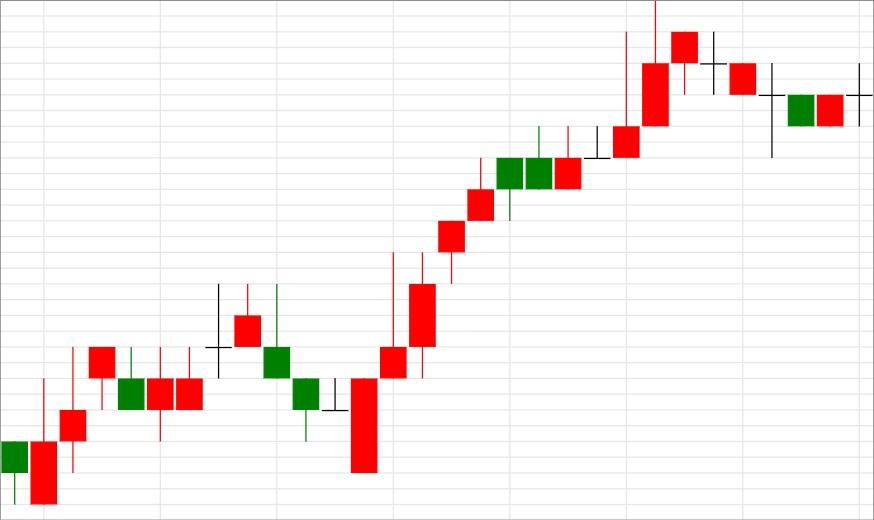three_white_soldiers_rise: (233, 252, 436, 472)
